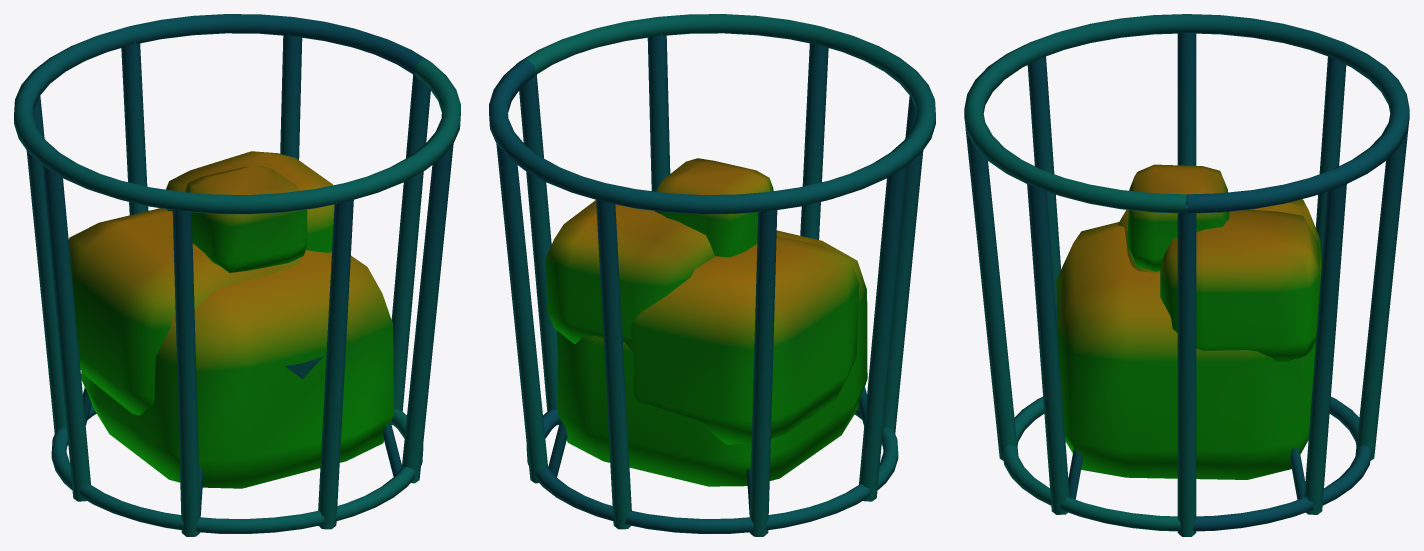
File: beacon_basket.glb
3 views of the same model, side by side, from view 1: azimuth 30°, elevation 25°; view 2: azimuth 150°, elevation 25°; view 3: azimuth 270°, elevation 25° (orthographic).
Visible parts, largest first — view 1: beacon_basket; view 2: beacon_basket; view 3: beacon_basket.
Part boxes in pixels (x1,y1,x2,y2): beacon_basket: (14,14,460,536); beacon_basket: (489,14,935,536); beacon_basket: (964,14,1409,536).
Size of what is drawn, in the model's own units: 3.76 by 3.3 by 3.76.
